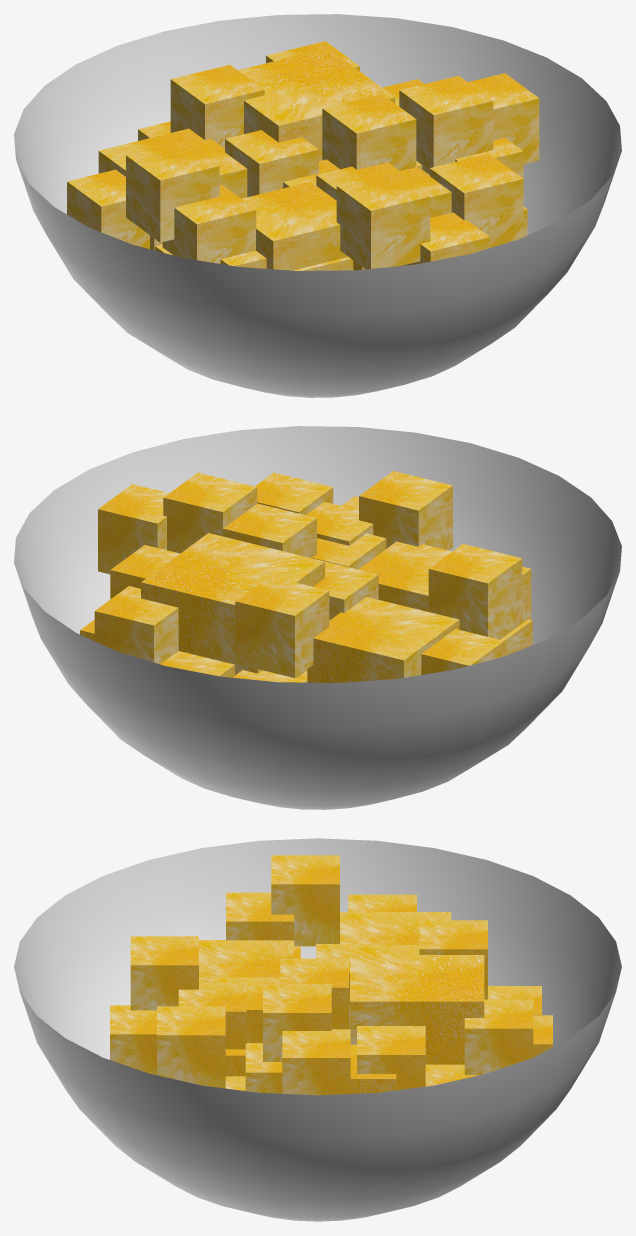
The model's file is pineapple.fbx.
3 views of the same model, one above another, from view 1: azimuth 30°, elevation 25°; view 2: azimuth 150°, elevation 25°; view 3: azimuth 270°, elevation 25° (orthographic).
Parts seen in each view (by area): view 1: Sphere, Cube.029, Cube.049, Cube.046, Cube.050, Cube.038, Cube.052, Cube.042, Cube.006, Cube.047, Cube.051, Cube.005 (+8 smaller); view 2: Sphere, Cube.029, Cube.040, Cube.006, Cube.050, Cube.049, Cube.038, Cube.048, Cube.037, Cube.046, Cube.052, Cube.005 (+9 smaller); view 3: Sphere, Cube.029, Cube.050, Cube.042, Cube.049, Cube.048, Cube.037, Cube.038, Cube.045, Cube.046, Cube.040, Cube.047 (+13 smaller).
Boxes of the visible parts, x1,y1,x2,y2 form: Sphere: (14, 14, 621, 397); Cube.029: (238, 48, 395, 161); Cube.049: (336, 171, 430, 269); Cube.046: (241, 182, 348, 270); Cube.050: (126, 141, 219, 242); Cube.038: (399, 75, 493, 174); Cube.052: (322, 94, 416, 170); Cube.042: (430, 153, 523, 247); Cube.006: (170, 65, 264, 148); Cube.047: (162, 185, 256, 263); Cube.051: (225, 130, 318, 196); Cube.005: (67, 169, 149, 249); Sphere: (14, 426, 621, 809); Cube.029: (141, 533, 324, 675); Cube.040: (307, 597, 459, 682); Cube.006: (235, 576, 329, 677); Cube.050: (428, 544, 522, 638); Cube.049: (359, 471, 452, 550); Cube.038: (163, 472, 257, 553); Cube.048: (94, 586, 178, 664); Cube.037: (98, 484, 169, 574); Cube.046: (358, 541, 451, 611); Cube.052: (223, 503, 316, 557); Cube.005: (421, 629, 504, 674); Sphere: (14, 838, 621, 1221); Cube.029: (350, 945, 484, 1064); Cube.050: (271, 855, 339, 946); Cube.042: (157, 1006, 225, 1088); Cube.049: (130, 936, 198, 1010); Cube.048: (464, 999, 533, 1074); Cube.037: (282, 1029, 350, 1095); Cube.038: (263, 984, 331, 1061); Cube.045: (357, 1026, 425, 1090); Cube.046: (199, 940, 294, 982); Cube.040: (340, 912, 451, 944); Cube.047: (226, 892, 294, 940).
Bounding box in the file's own units: 172 × 78.6 × 172.
55 materials, 54 textured.
